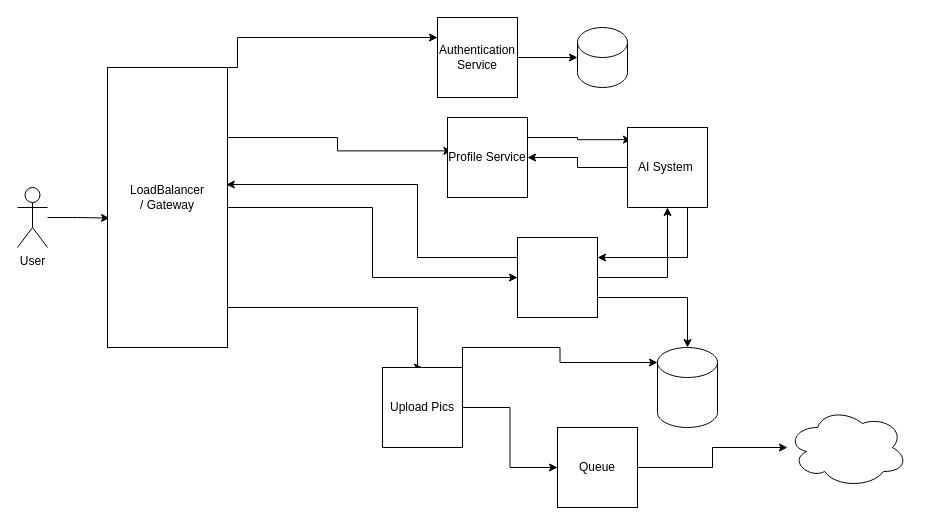
Some shapes in this 925 by 525 pixel diagram are drawn without their labels. Each missing label, with the centre of its shape:
Amazon S3: the point at 847,447
Feed: the point at 557,277
Uploaded PIcs DB: the point at 687,387
